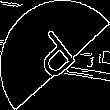P_SE: (26, 23, 84, 87)
